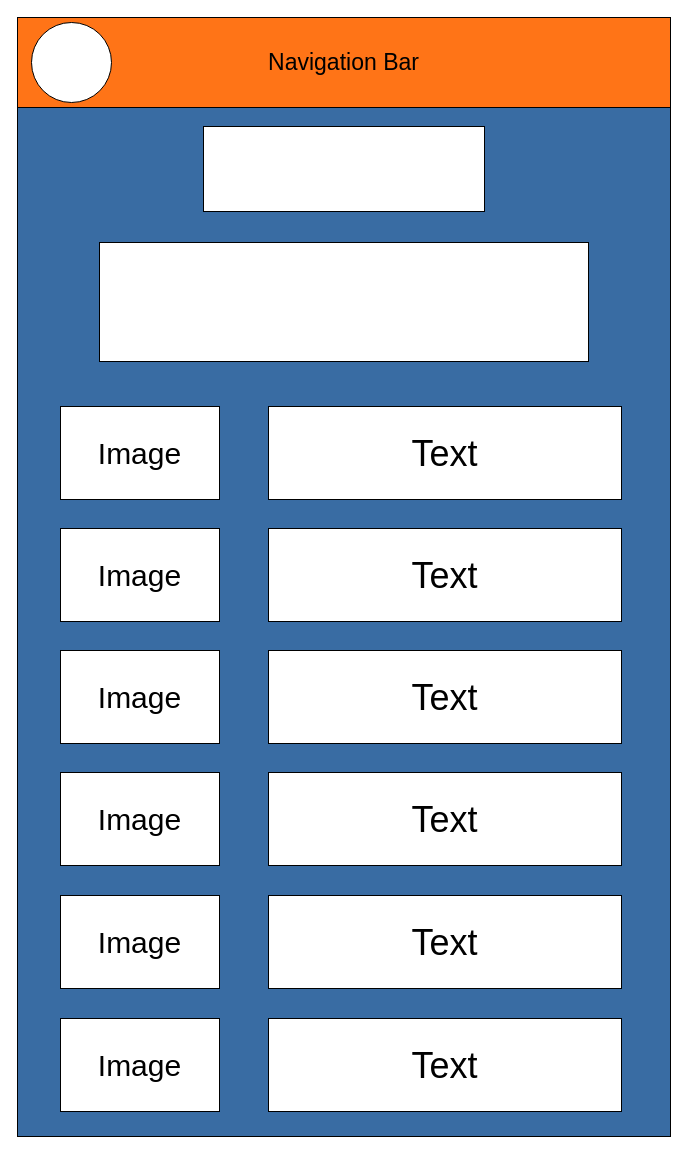
Some shapes in this 688 by 1154 pixel diagram are drawn without their labels. Here are the shapes that lost their labels. From the top down, the centre of each, then its label:
At (x=71, y=62): "Logo".
At (x=343, y=169): "Title".
At (x=343, y=302): "Brief info about Devon Dive Adventures".
